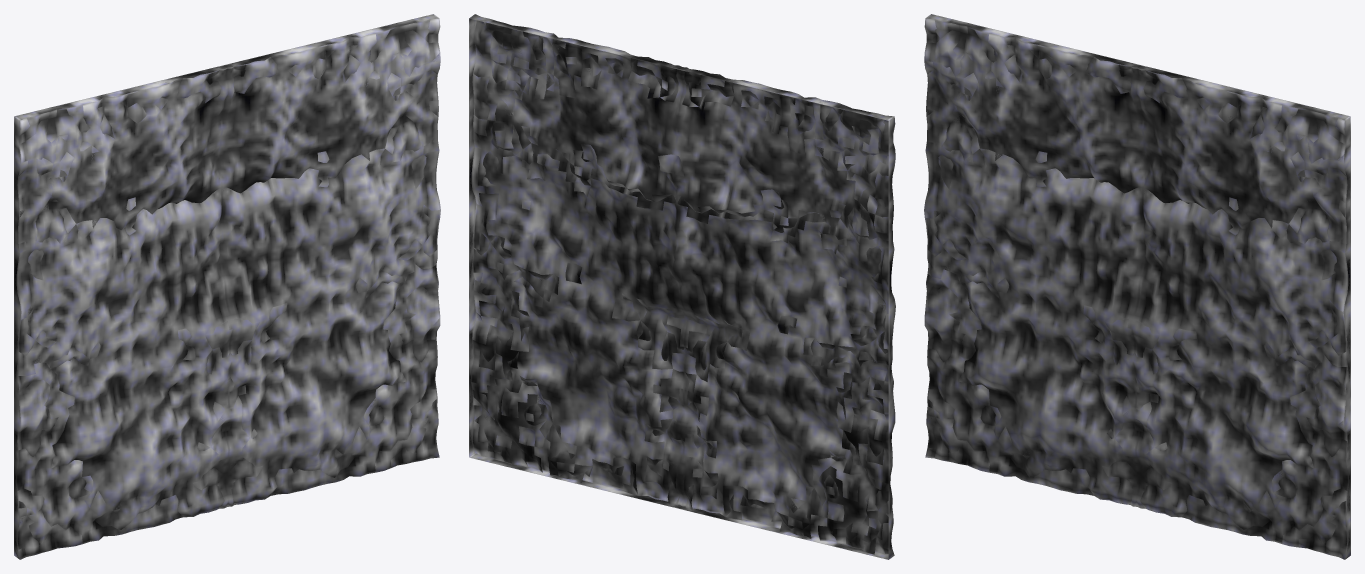
Rendered from bridg1_3.fbx.
3 renders of one model, left to right at view 1: azimuth 30°, elevation 25°; view 2: azimuth 150°, elevation 25°; view 3: azimuth 330°, elevation 25°, orthographic.
Parts seen in each view (by area): view 1: bridg1_3_mesh.flipx; view 2: bridg1_3_mesh.flipx; view 3: bridg1_3_mesh.flipx.
Boxes of the visible parts, x1,y1,x2,y2 form: bridg1_3_mesh.flipx: (14,14,440,559); bridg1_3_mesh.flipx: (469,14,895,559); bridg1_3_mesh.flipx: (924,14,1350,559).
Size of the model in its own units: 256 by 256 by 22.49.
